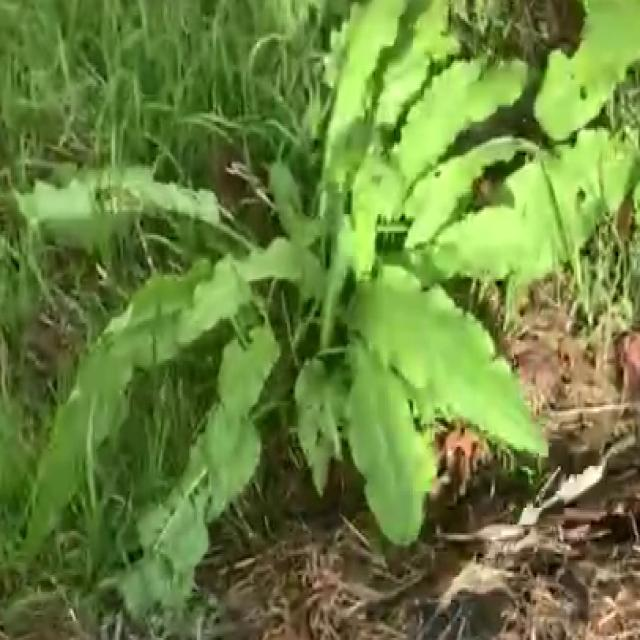organic waste: (71, 0, 601, 640)
